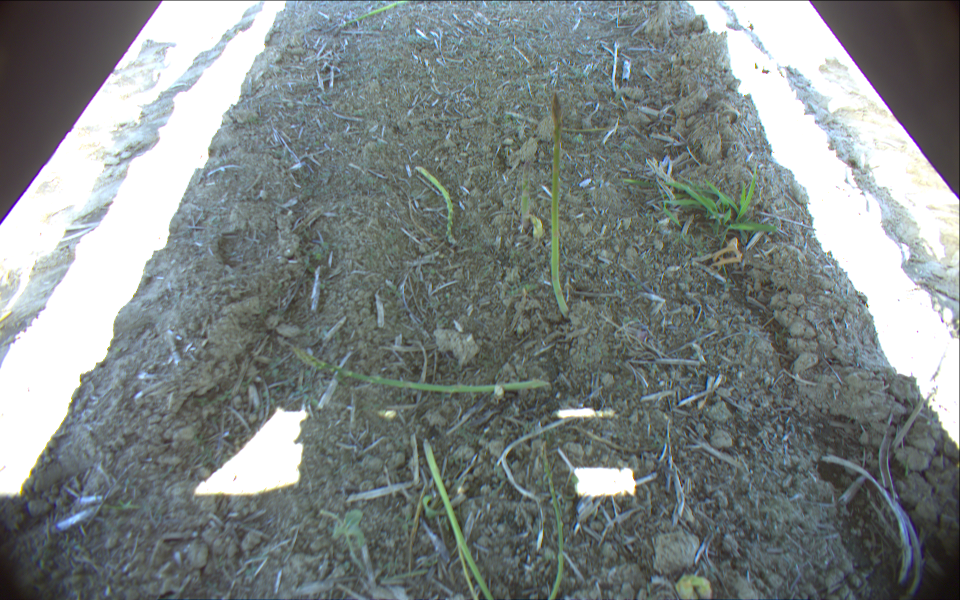aspa: (544, 88, 573, 319)
